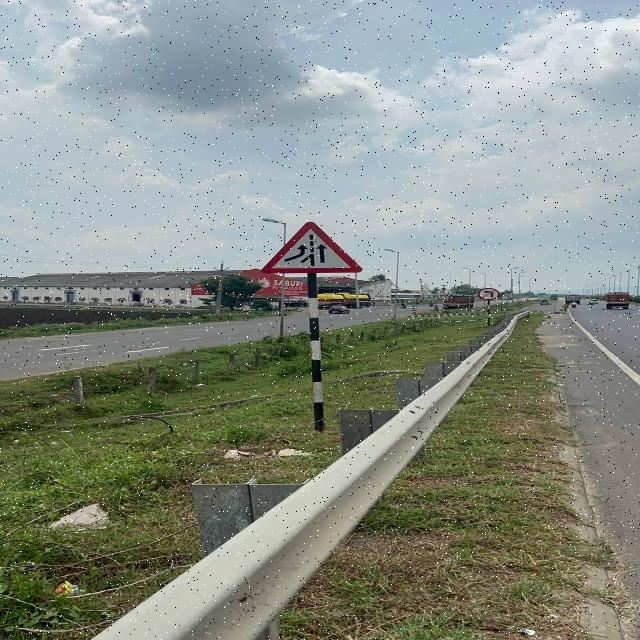merging_traffic_from_left: (247, 218, 380, 286)
